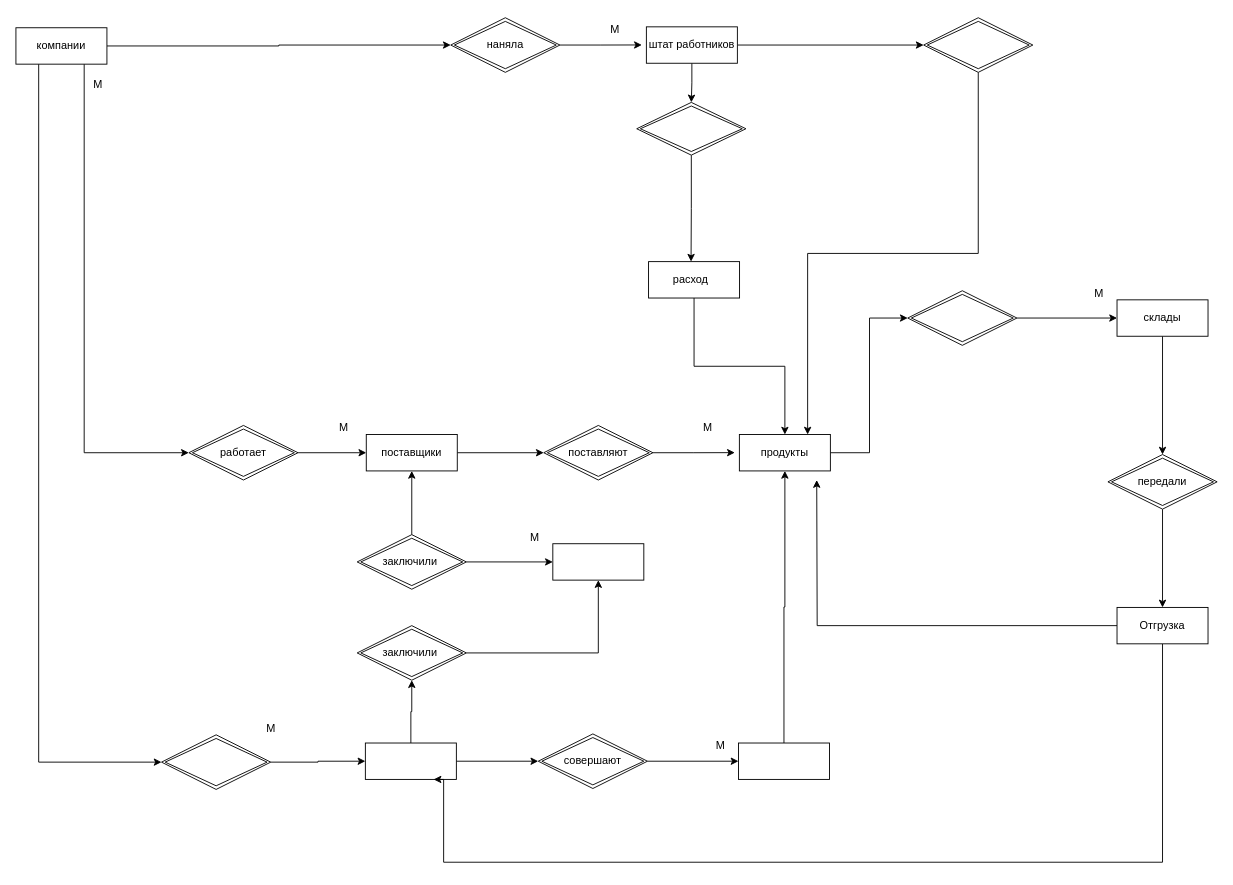
This 1233x885 diagram has some shape labels left out. The shapes that lost their labels are listed below. From the top down, each one's centre as x and y in pixels, then its label:
the point at 978,44: выпекает
the point at 691,128: офрмляет
the point at 962,317: приходуются
the point at 598,561: договор
the point at 216,761: работает для
the point at 410,760: заказчика
the point at 783,760: заказ
